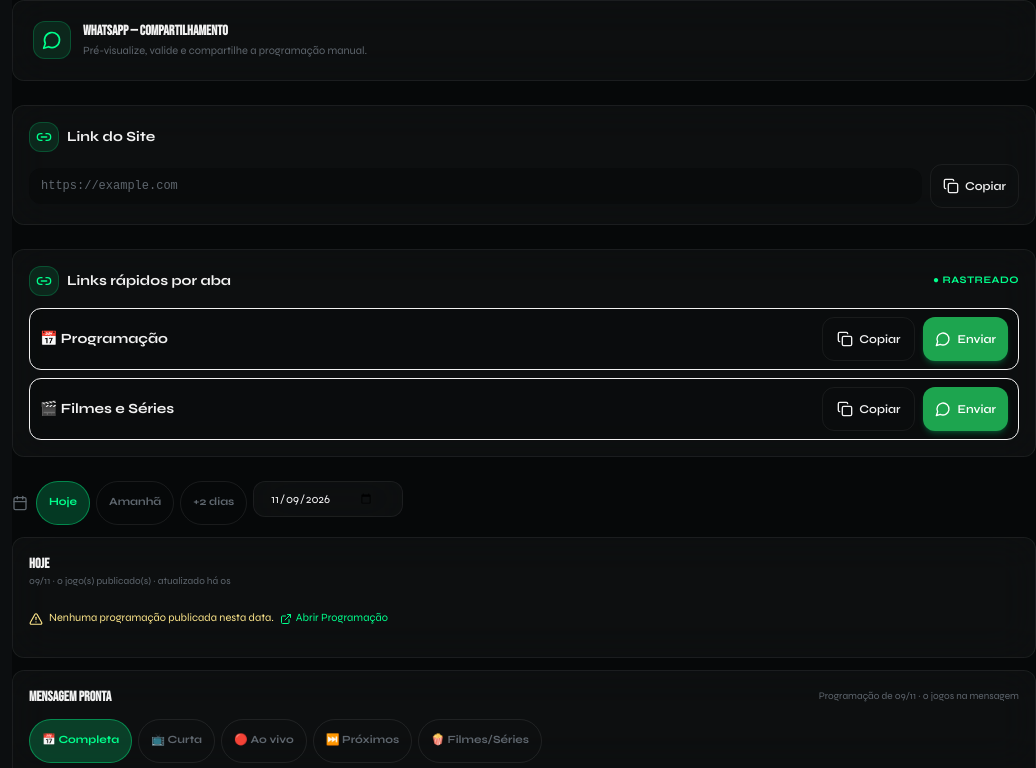
Scenario: AdminWhatsApp › switches selected day when chip clicked
Click the button "Amanhã" at (135, 502), box [96,480,174,524]
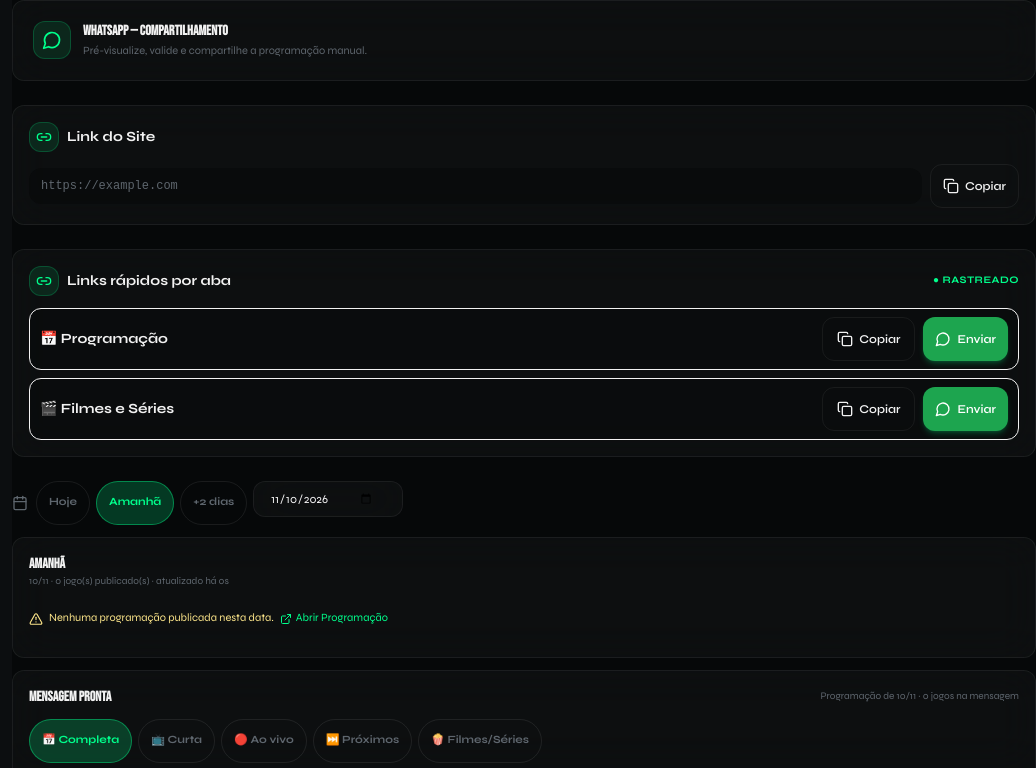
Expected: the date field named "Escolher data" is not empty, [253,480,403,516]
